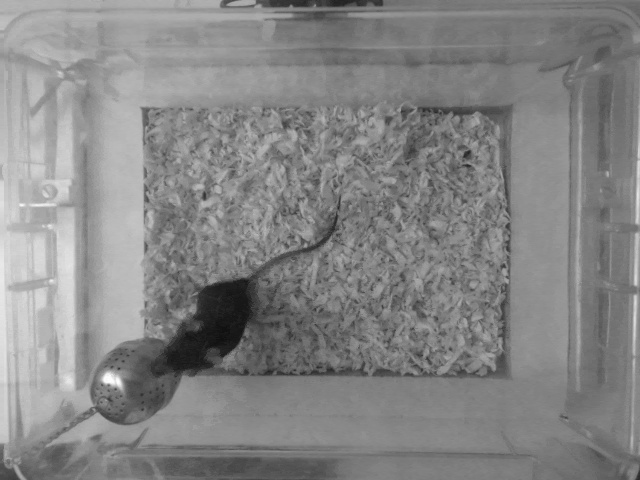mice: (155, 194, 343, 382)
